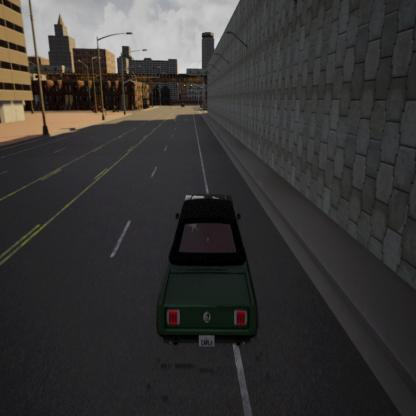Cars: (146, 176, 272, 368)
